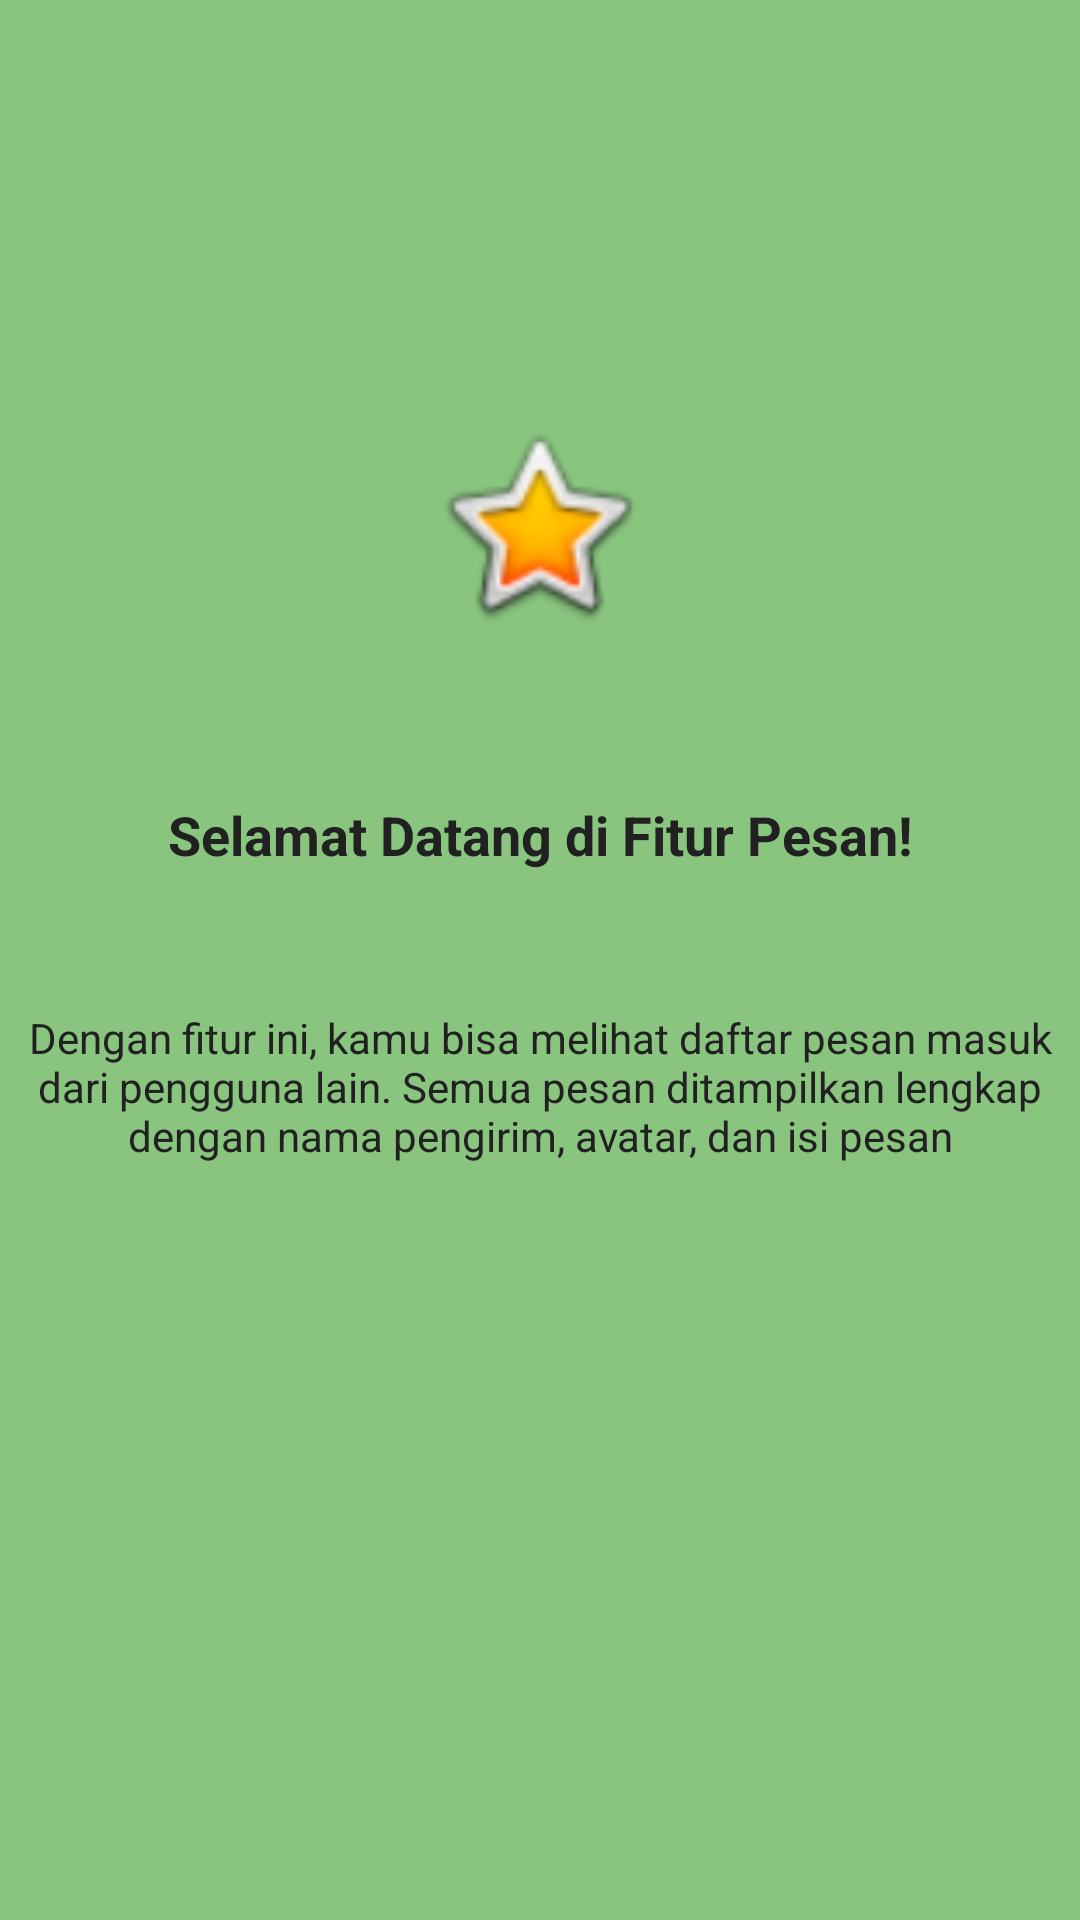

Icons on this 1080w x 1920h Android screen, each with its box as [x1=x1, y1=y1, x2=x2, y2=y2]:
star on: [x1=448, y1=438, x2=632, y2=617]
